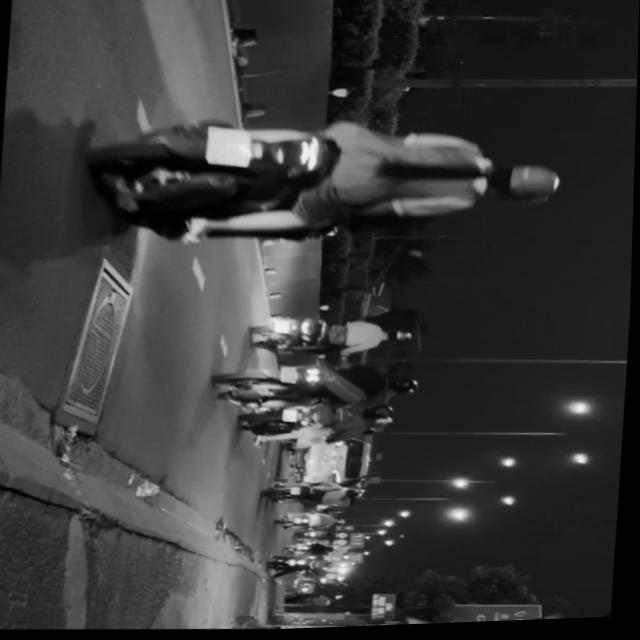helmet: (485, 161, 565, 209)
licenseplate: (84, 100, 569, 265)
nohelmet: (206, 125, 254, 168)
